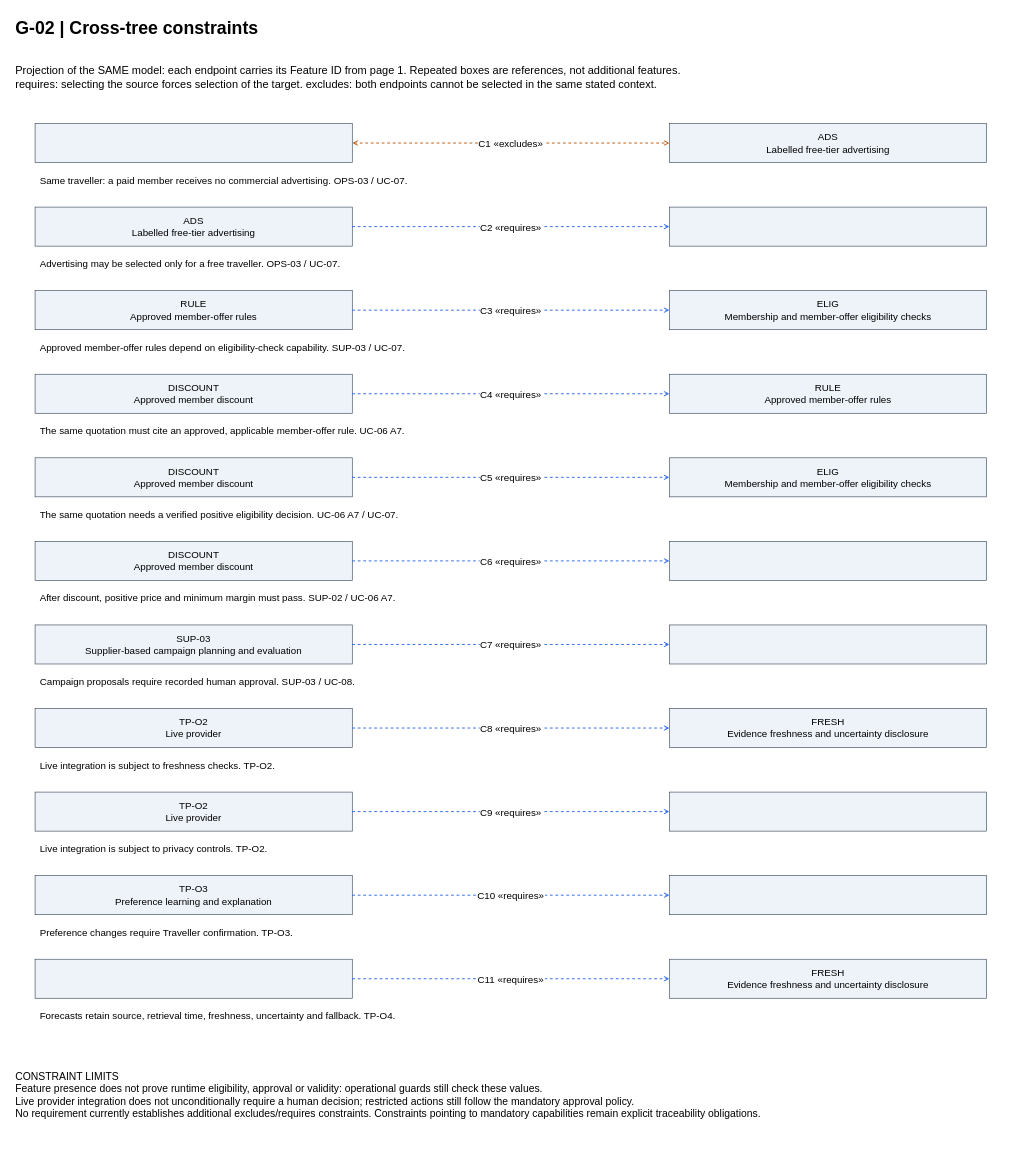
The diagram is 1021 pixels wide and 1149 high, and some of its shapes have lost their labels. The shapes that lost their labels are listed below. From the top down, each one's centre as x and y in pixels, then its label:
At (x=193, y=143): "PAID Paid tier".
At (x=828, y=226): "FREE Free tier".
At (x=828, y=560): "PRICE Selling-price and minimum-margin validation".
At (x=828, y=644): "APPROVAL Human approval for restricted commitments / campaigns".
At (x=828, y=811): "SECURITY Security and privacy".
At (x=828, y=895): "CONSENT Confirmed preferences and hard constraints preserved".
At (x=193, y=978): "TP-O4 Live-data forecasting".
